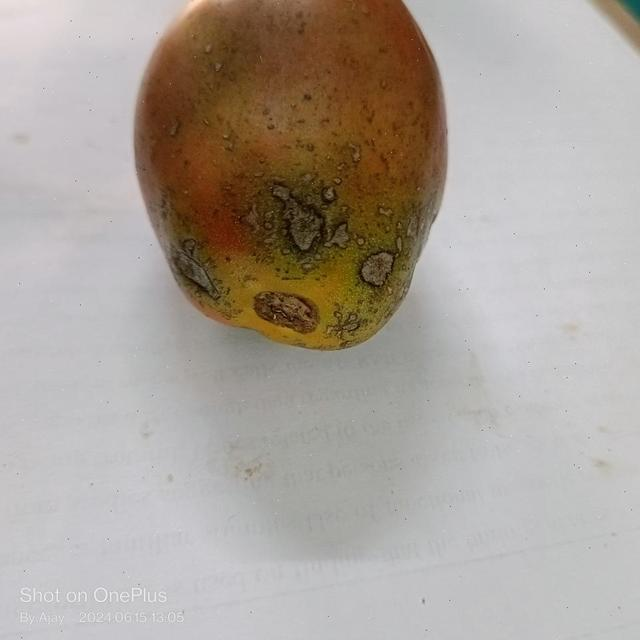Bacterial Spot Fruit: (28, 28, 252, 209)
